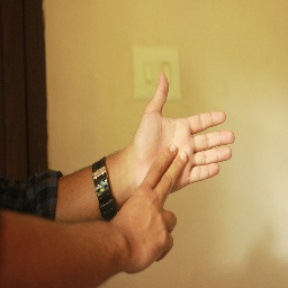N: (119, 73, 235, 259)
